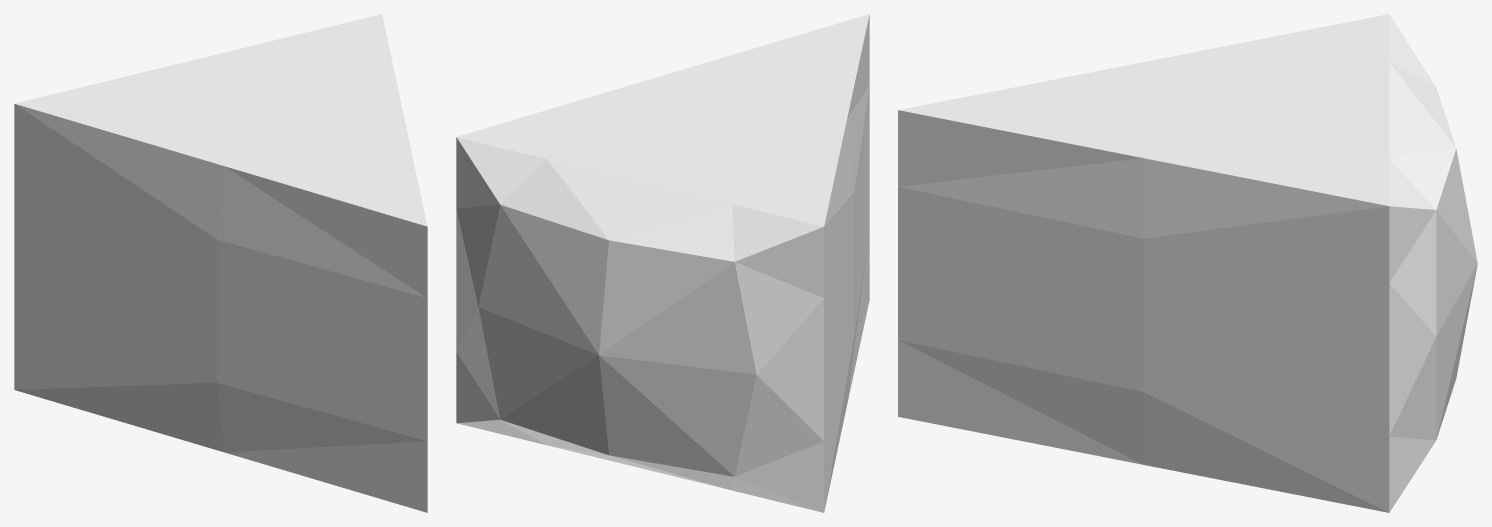
Rendered from player.obj.
The picture shows the model from 3 angles, left to right: view 1: azimuth 30°, elevation 25°; view 2: azimuth 150°, elevation 25°; view 3: azimuth 270°, elevation 25°; orthographic projection. The views are drawn at different scales.
Visible parts, largest first — view 1: Cube; view 2: Cube; view 3: Cube.
Part boxes in pixels (x1,y1,x2,y2): Cube: (14,14,427,512); Cube: (456,14,869,512); Cube: (898,14,1477,512).
Bounding box in the file's own units: 2.22 × 1.65 × 2.83.
Materials: 1 (1 with a texture image).
